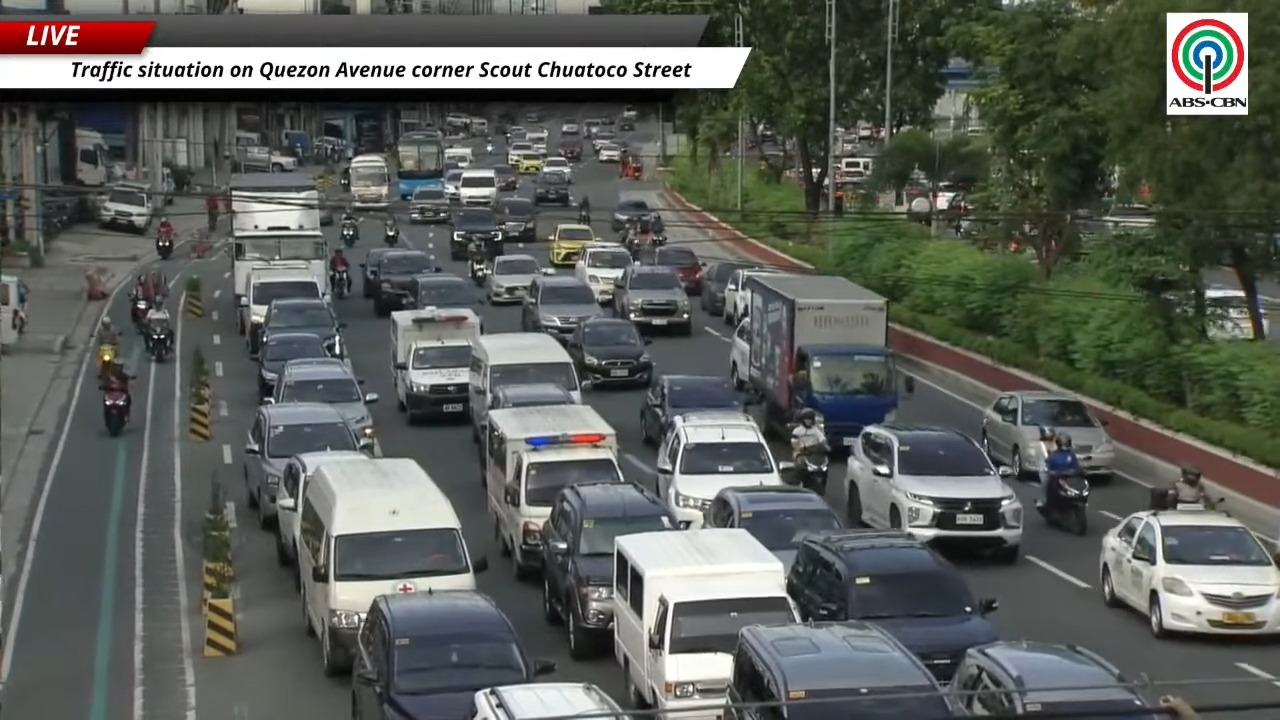bus: (394, 130, 444, 199), (348, 154, 391, 208)
car: (787, 530, 998, 682), (351, 590, 554, 719), (846, 422, 1023, 563), (541, 482, 674, 659), (1099, 510, 1279, 637), (723, 622, 953, 719), (948, 641, 1164, 719), (244, 403, 373, 528), (655, 411, 791, 528), (981, 390, 1114, 478), (703, 485, 843, 568), (271, 360, 377, 442), (640, 375, 741, 443), (467, 682, 626, 719), (567, 317, 652, 385), (252, 298, 344, 359), (613, 265, 692, 335), (520, 275, 602, 340), (257, 332, 330, 398), (373, 249, 433, 317), (574, 243, 632, 304), (723, 267, 782, 326), (637, 246, 704, 294), (485, 254, 542, 304), (449, 208, 503, 260), (699, 261, 749, 315), (412, 273, 479, 310), (489, 383, 577, 409), (360, 248, 400, 298), (549, 224, 596, 266), (496, 198, 537, 241), (729, 319, 752, 390), (610, 198, 654, 231), (409, 187, 449, 222), (534, 172, 571, 206), (507, 137, 535, 167), (543, 156, 573, 183), (443, 168, 463, 202), (493, 165, 518, 191), (516, 151, 543, 174), (592, 129, 616, 154), (558, 138, 582, 162), (526, 128, 547, 155), (445, 147, 472, 168), (597, 142, 623, 162), (583, 118, 602, 137), (506, 125, 526, 143), (561, 119, 580, 134), (621, 105, 638, 121), (612, 138, 630, 153), (617, 118, 635, 131), (524, 110, 542, 123), (600, 115, 615, 129), (442, 161, 460, 172)
motorcycle: (1037, 473, 1089, 535), (791, 447, 828, 496), (1149, 486, 1222, 510), (103, 390, 127, 436), (96, 343, 117, 379), (148, 330, 171, 362), (130, 296, 150, 331), (330, 268, 350, 298), (469, 257, 488, 285), (155, 230, 173, 259), (340, 223, 357, 247), (384, 228, 398, 246), (649, 233, 666, 246), (577, 210, 590, 224), (485, 142, 494, 155)
truck: (614, 528, 798, 719), (744, 274, 898, 448), (481, 405, 623, 578), (228, 173, 327, 304), (390, 307, 480, 423), (233, 130, 297, 172), (74, 127, 112, 186)
